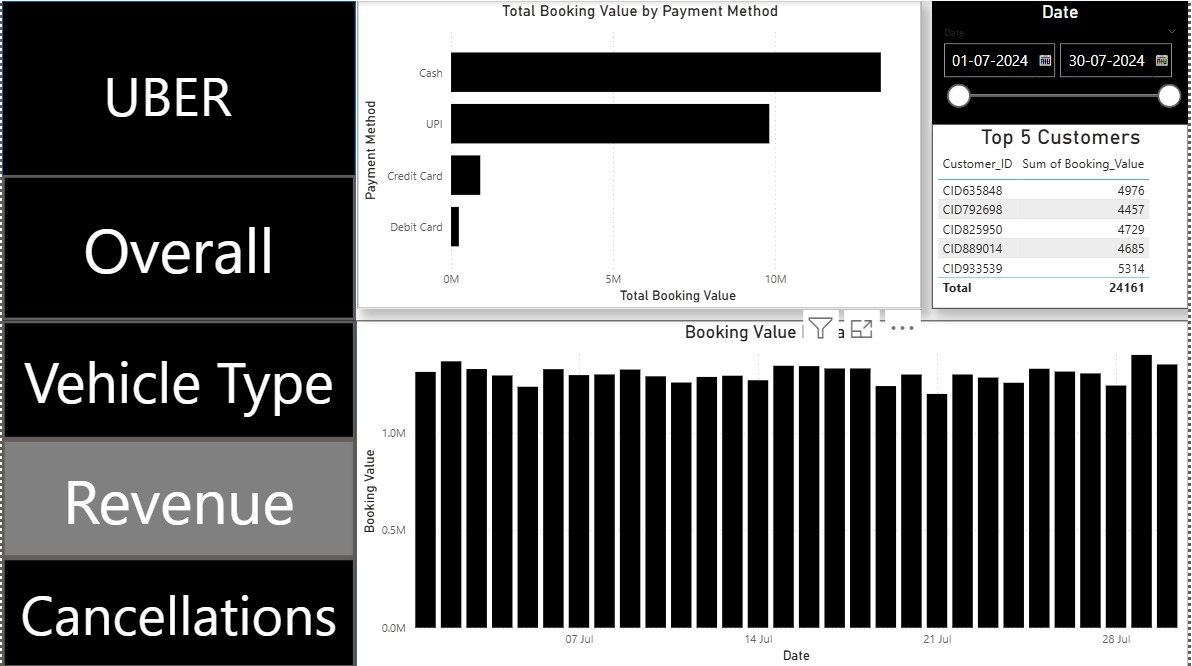

The page's visual inventory and layout, read from the dashboard file:
{"tool":"powerbi","page":{"name":"Revenue","canvas":[1280,720],"ordinal":2},"visuals":[{"type":"shape","box":[0,0,381.7,720],"z":0},{"type":"actionButton","box":[0.7,187.1,381.7,156.9],"z":1000},{"type":"actionButton","box":[0,344.5,381.7,128.5],"z":2000},{"type":"actionButton","box":[0,473,381.7,128.5],"z":3000},{"type":"actionButton","box":[0.7,600.9,381.7,119.1],"z":4000},{"type":"textbox","box":[25.9,54.8,306.1,117.2],"z":5000},{"type":"slicer","title":"Date","fields":{"Values":["Bookings.Date"]},"box":[1003.9,0,276.9,132.8],"z":6000},{"type":"columnChart","title":"Booking Value by Date","fields":{"Y":["Sum(Bookings.Booking_Value)"],"Category":["Bookings.Date"]},"box":[382.1,344.9,898.7,375.7],"z":7000},{"type":"clusteredBarChart","fields":{"Category":["Bookings.Payment_Method"],"Y":["Sum(Bookings.Booking_Value)"]},"box":[383.8,0,608.8,331.9],"z":8000},{"type":"tableEx","title":"Top 5 Customers","fields":{"Values":["Bookings.Customer_ID","Sum(Bookings.Booking_Value)"]},"box":[1003.9,132.8,276.9,199.2],"z":9000}]}

Visuals, with their boxes in screenshot pixels (x1, y1, x2, y2), scaled from the page's 1280x720 canvas onto the 1192x666 screenshot:
shape: 0, 0, 355, 665
actionButton: 1, 173, 356, 318
actionButton: 0, 319, 355, 438
actionButton: 0, 438, 355, 556
actionButton: 1, 556, 356, 665
textbox: 24, 51, 309, 159
"Date" slicer: 935, 0, 1191, 123
"Booking Value by Date" columnChart: 356, 319, 1191, 665
clusteredBarChart - Bookings.Payment_Method x Sum(Bookings.Booking_Value): 357, 0, 924, 307
"Top 5 Customers" tableEx: 935, 123, 1191, 307
